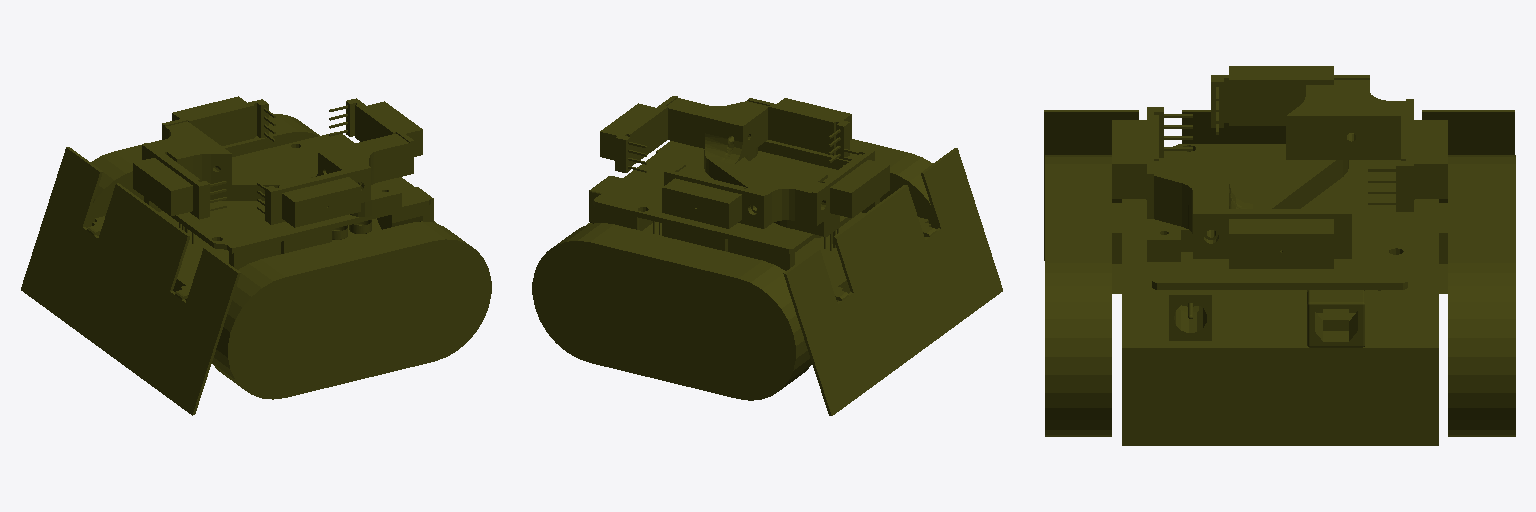
URDF robot description (Zumo de Compet):
<?xml version="1.0"?>
<robot name="Zumo de Compet">
    <link name="base_link"/>
    <link name="base">
        <visual>
            <origin rpy="0 0 0" xyz="0 0 0"/>
            <geometry>
                <mesh filename="package://Zumo2Compet/urdf/zumo.STL" scale="1 1 1"/>
            </geometry>
            <material name="Grey">
                <color rgba="0.30 0.30 0.10 1.0"/>
            </material>
        </visual>
    </link>
    
    <joint name="joint1" type="planar">
        <parent link="base_link"/>
        <child link="base"/>
        <axis xyz="0 0 1"/>
        <origin rpy="0 0 0" xyz="0 0 0"/>
        <!--<limit effort="1000" lower="-10" upper="10" velocity="0.2"/>-->
    </joint>
  
</robot>

--- Facts derived from the render (not from the file) ---
The picture shows the robot from 3 angles, left to right: view 1: azimuth 30°, elevation 25°; view 2: azimuth 150°, elevation 25°; view 3: azimuth 270°, elevation 25°; orthographic projection.
Model Zumo de Compet with 2 links and 1 joints (1 planar), rooted at base_link, posed every joint at zero.
Links seen in each view (by area): view 1: base; view 2: base; view 3: base.
Link boxes in pixels (<box>): base: <box>21,96,491,415</box>; base: <box>532,96,1002,415</box>; base: <box>1044,66,1515,445</box>.
Size in the robot's own frame: 0.9862 by 0.981 by 0.545 metres.
Meshes: 1 distinct files referenced, 1 mesh visuals loaded (1 binary STL).